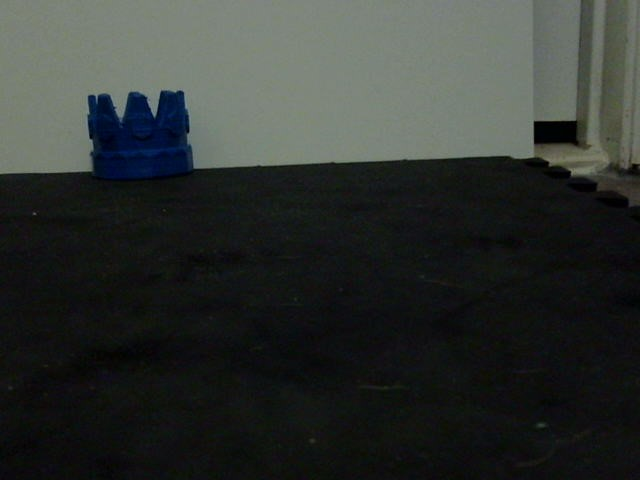crown: (84, 90, 195, 181)
